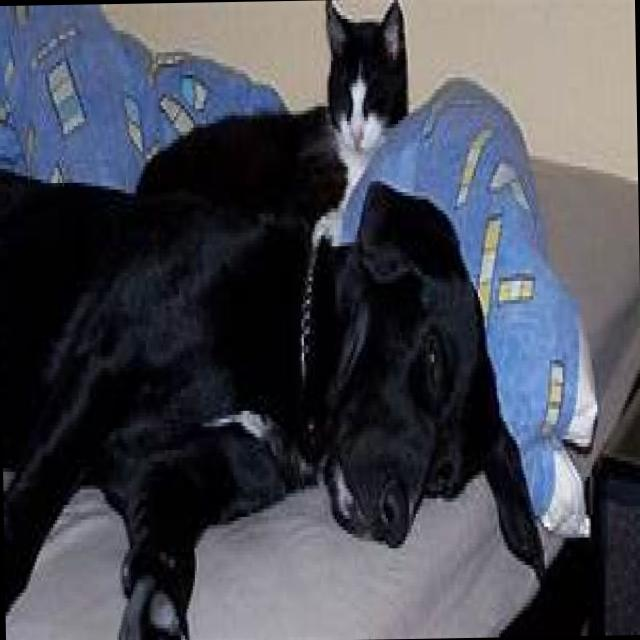animal: (0, 181, 561, 581), (104, 34, 412, 258)
